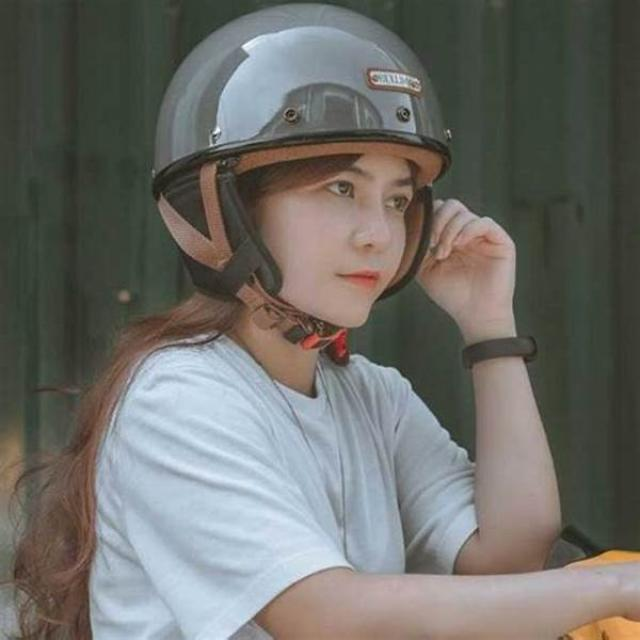helmet: (132, 0, 464, 370)
